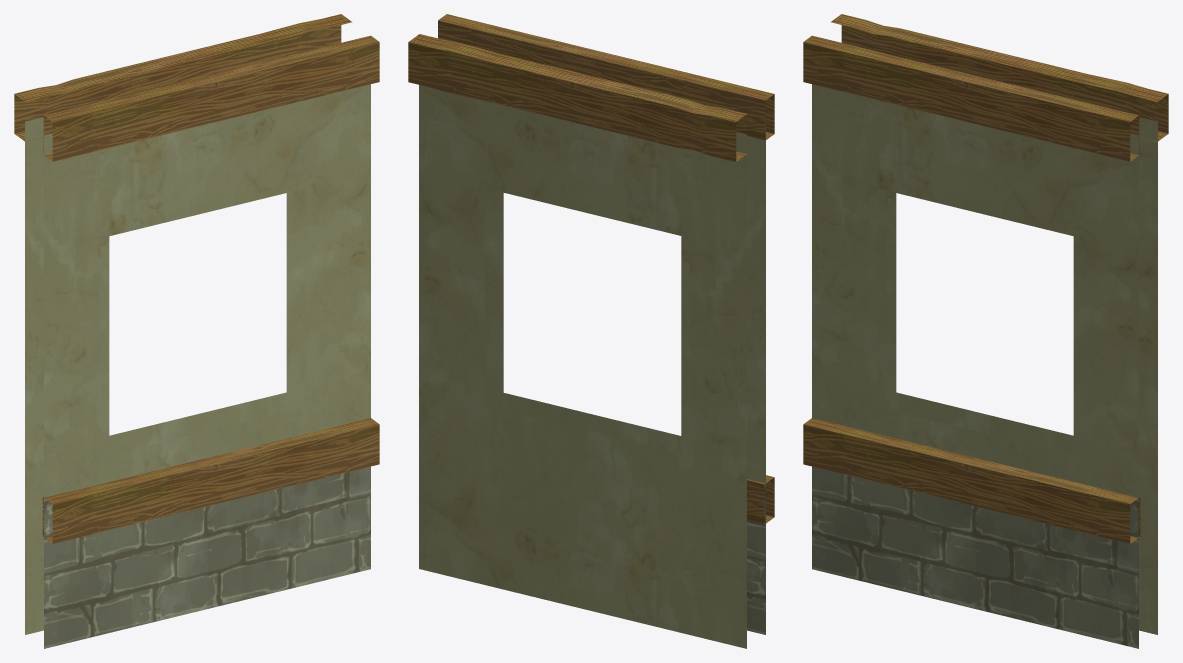
3 renders of one model, left to right at view 1: azimuth 30°, elevation 25°; view 2: azimuth 150°, elevation 25°; view 3: azimuth 330°, elevation 25°, orthographic.
Parts seen in each view (by area): view 1: 5d19ceda48f0e70492f839184dad4b42dd239277488184cf576264cf4387; view 2: 5d19ceda48f0e70492f839184dad4b42dd239277488184cf576264cf4387; view 3: 5d19ceda48f0e70492f839184dad4b42dd239277488184cf576264cf4387.
Part boxes in pixels (box(x1,y1,x2,y2)): 5d19ceda48f0e70492f839184dad4b42dd239277488184cf576264cf4387: box(14, 14, 379, 648); 5d19ceda48f0e70492f839184dad4b42dd239277488184cf576264cf4387: box(408, 14, 774, 648); 5d19ceda48f0e70492f839184dad4b42dd239277488184cf576264cf4387: box(803, 14, 1168, 648).
Size of the model in its own units: 2 by 3.12 by 0.4065.
Materials: 3 (3 with a texture image).
